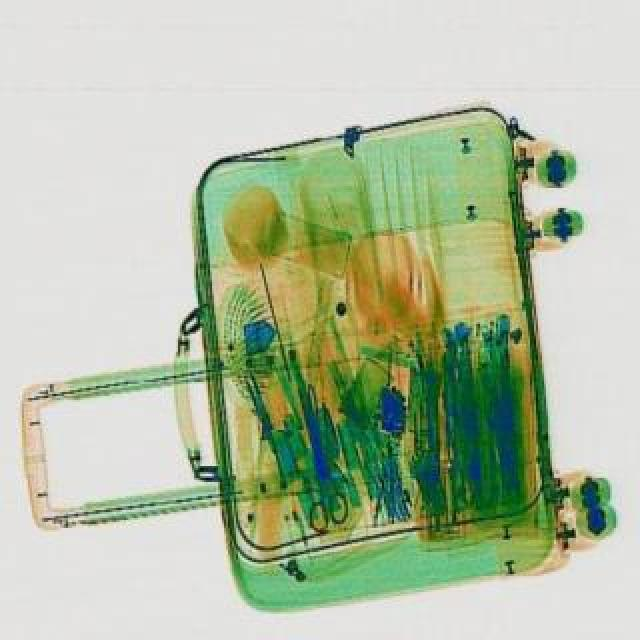pliers: (280, 394, 352, 530)
